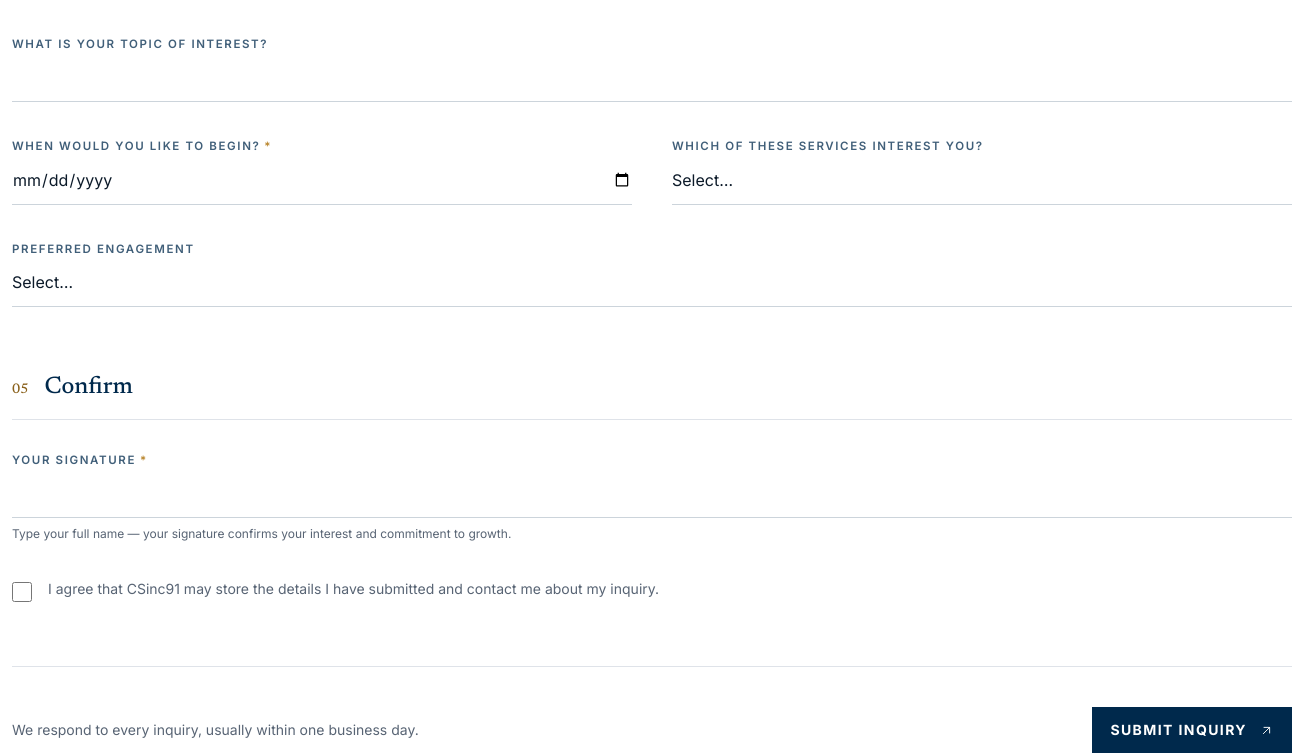
it: ContactForm › shows field errors returned by the API
(page scrolled)
Click the button "Submit inquiry" at (1192, 730), box [1092,707,1292,752]
(page scrolled)
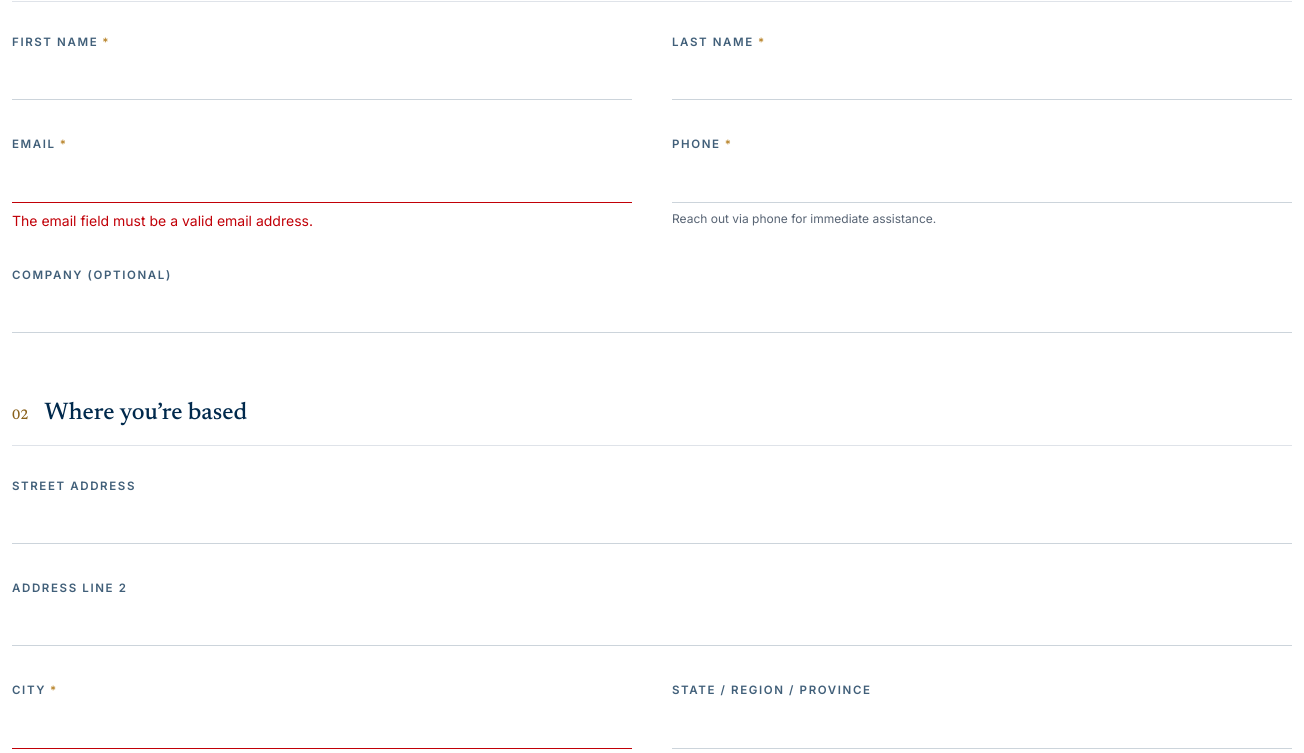
Result: the text "The email field must be a valid email address." is shown at [12,212,313,228]
